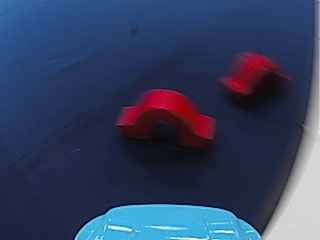bridge: (111, 84, 222, 146), (217, 52, 288, 106)
